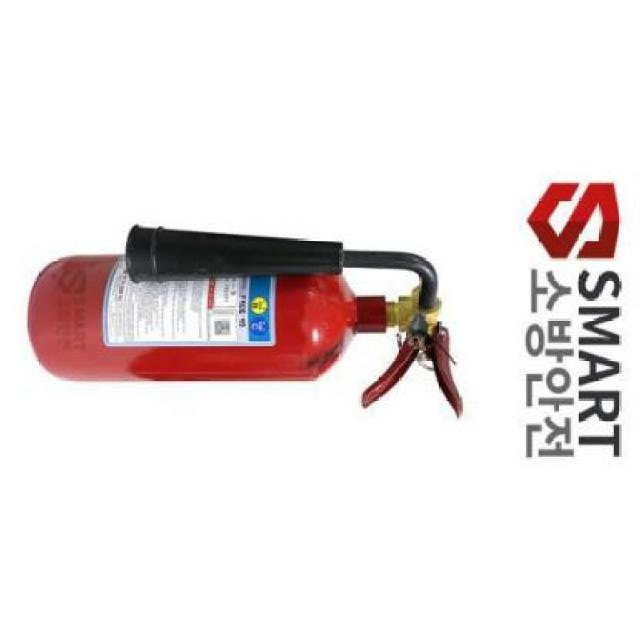fire extinguisher: (27, 222, 464, 421)
